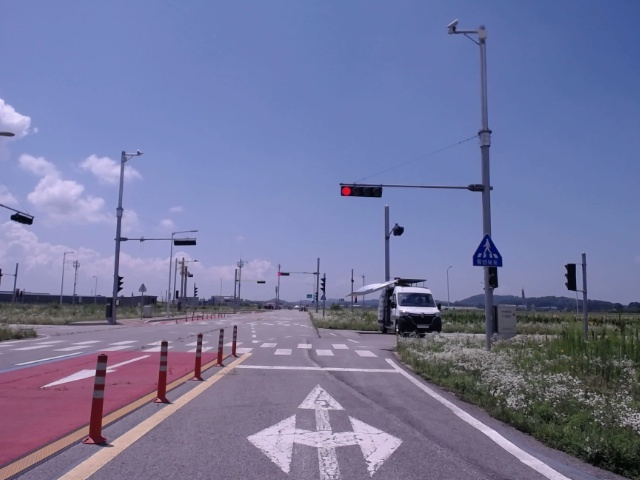red_4: (340, 186, 382, 197)
